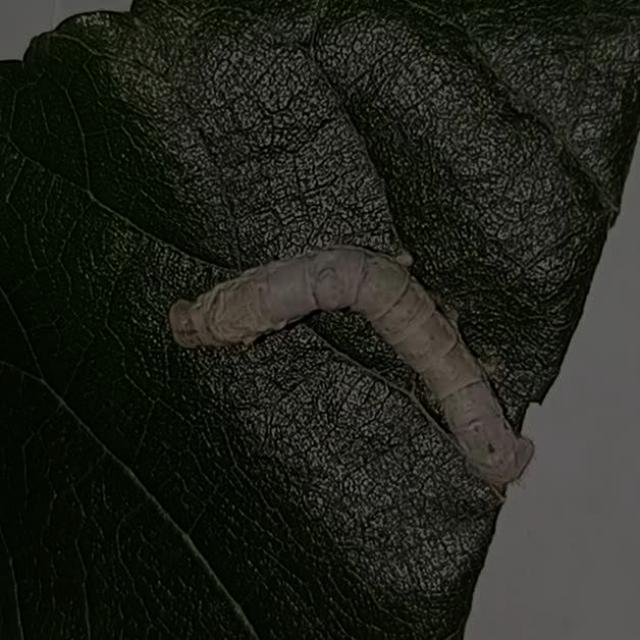Healthy: (157, 228, 532, 499)
